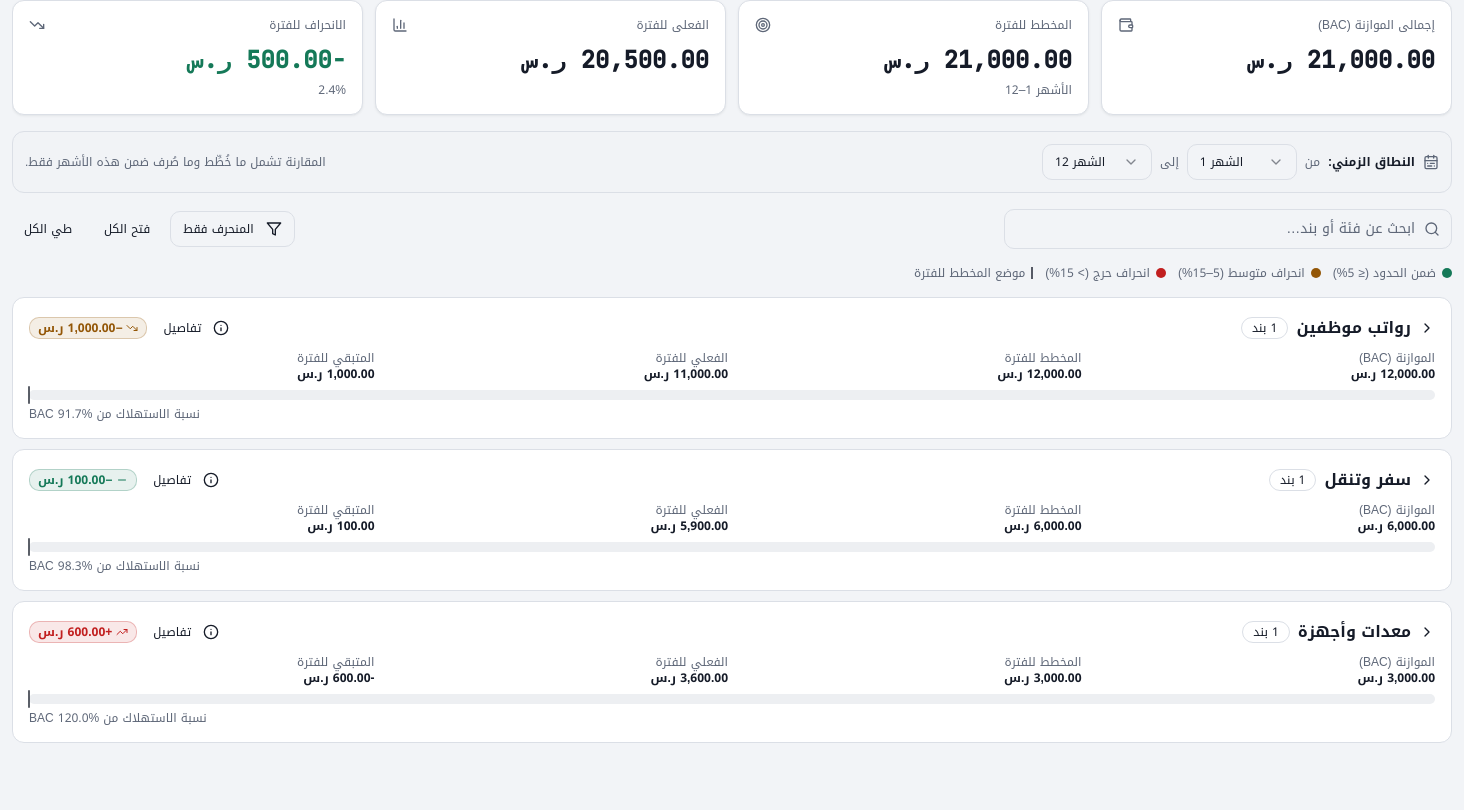
opening, searching and filtering › narrows by text and says when nothing matches
Type "أجهزة" into the field with placeholder "ابحث عن فئة أو بند…" at [1228, 229], box [1004,209,1452,249]
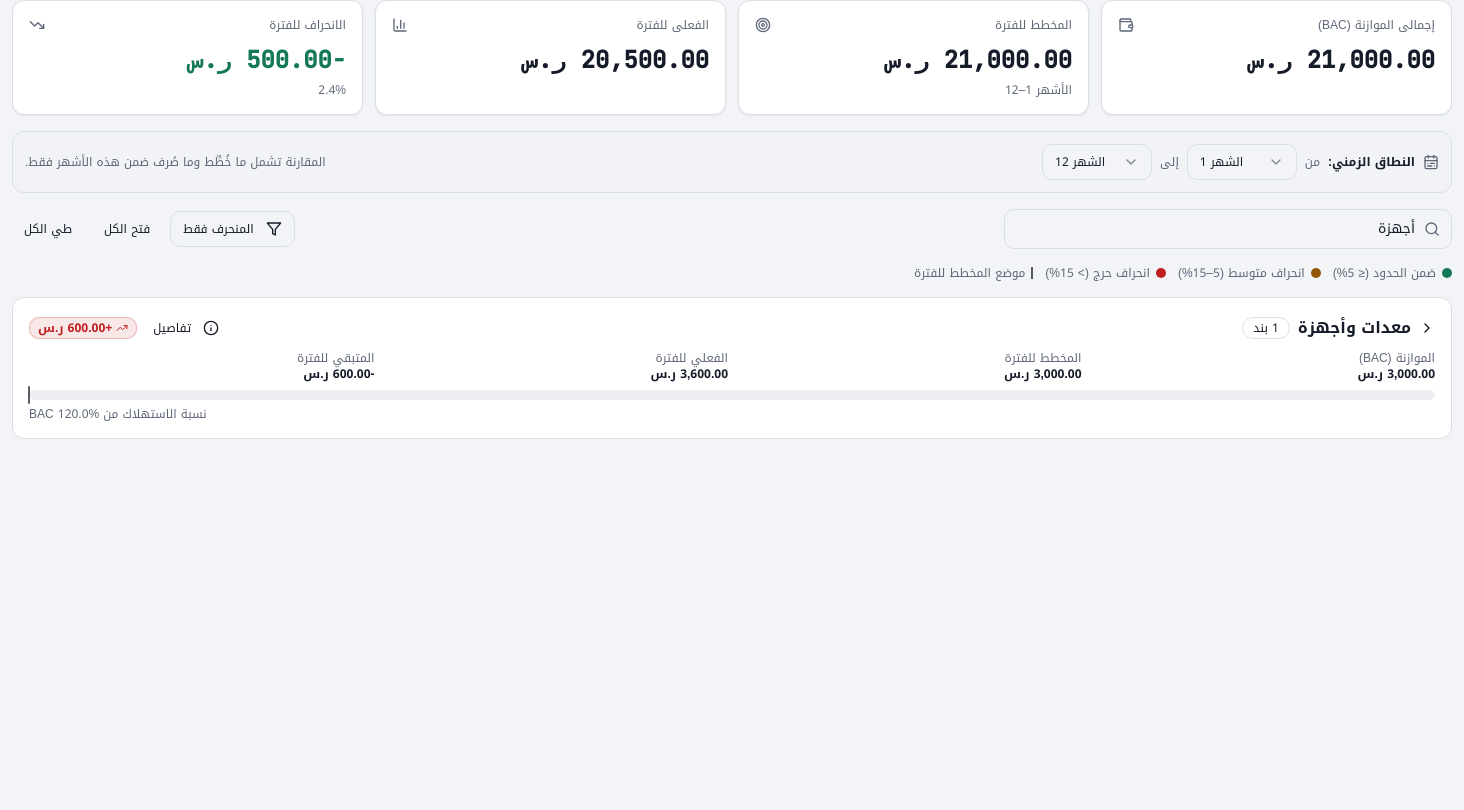
Replace the text in the field with placeholder "ابحث عن فئة أو بند…" with "لا شيء" at [1228, 229], box [1004,209,1452,249]
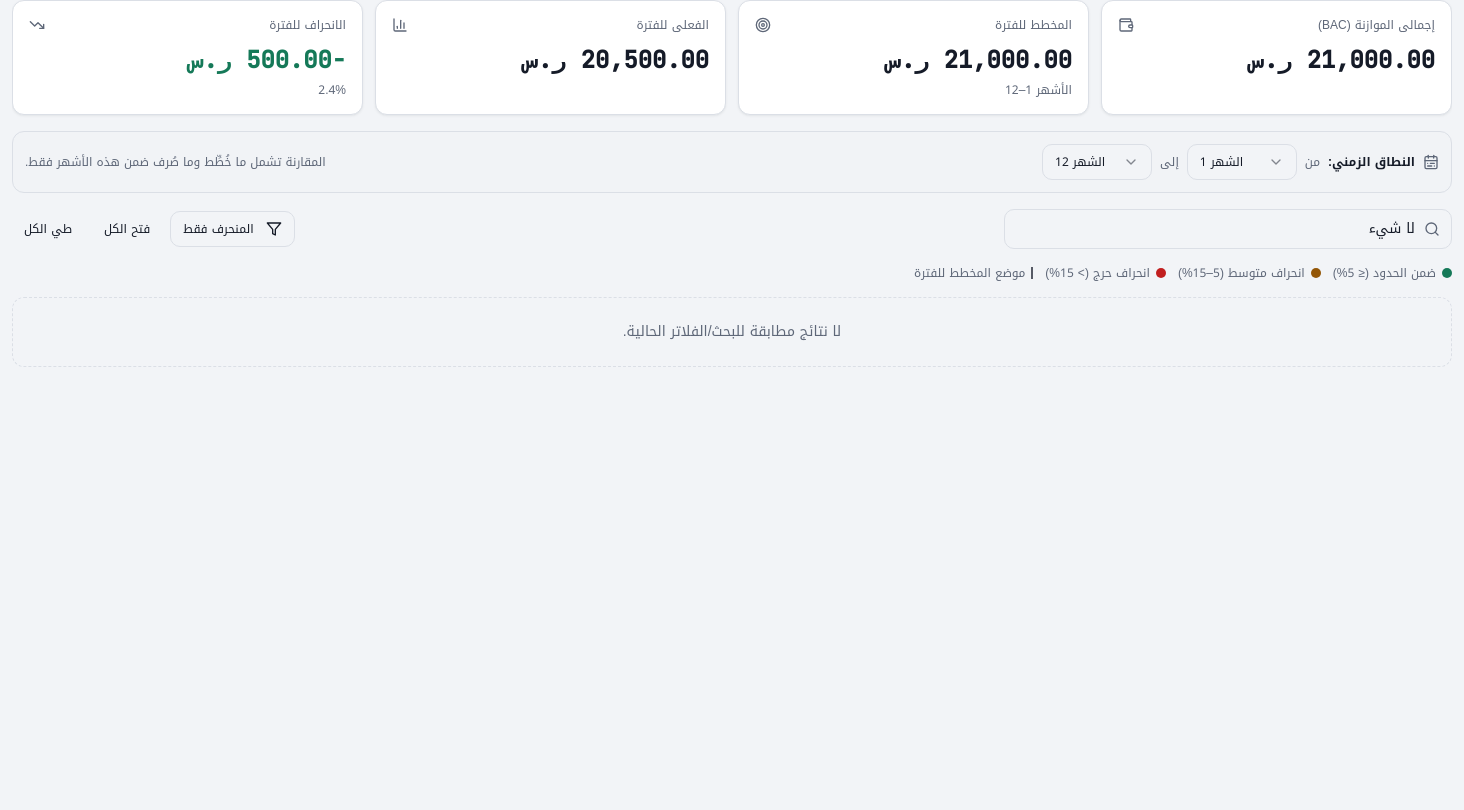
Expected: the text "الفعلي للفترة" shows "20,500.00 ر.س", [524,44,709,75]
Expected: the text "لا نتائج مطابقة للبحث/الفلاتر الحالية." is shown, [12,297,1452,367]
